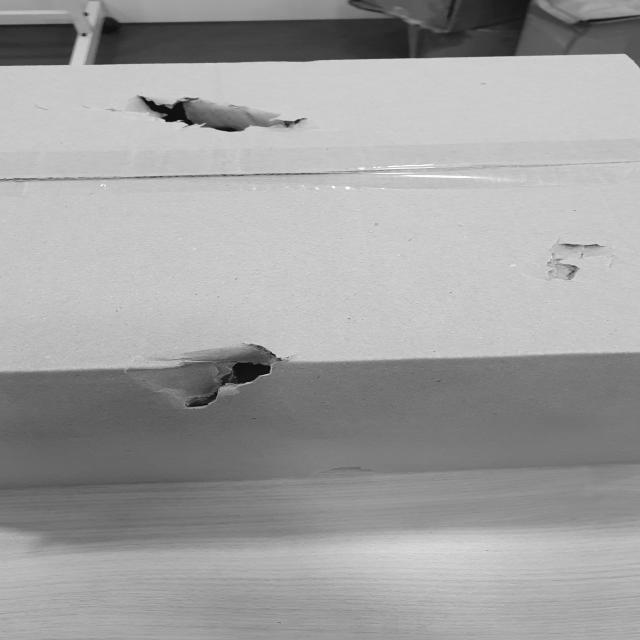hole: (140, 339, 295, 409), (125, 91, 321, 137)
